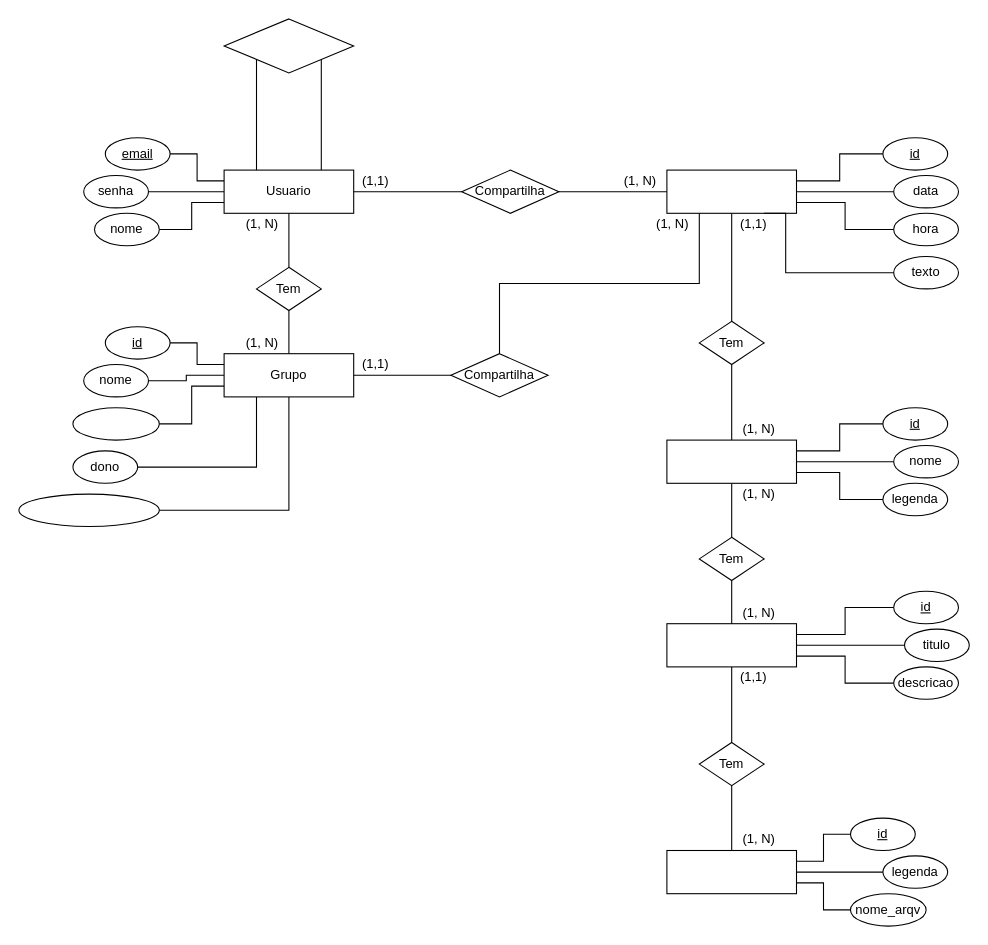
This 988x945 diagram has some shape labels left out. Each missing label, with the centre of its shape:
"Album" goes at (x=731, y=645).
"Arquivo_midia" goes at (x=731, y=461).
"data_criacao" goes at (x=115, y=423).
"Foto" goes at (x=731, y=871).
"Publicacao" goes at (x=731, y=191).
"Segue" goes at (x=288, y=45).
"usuarios_participantes" goes at (x=88, y=509).
